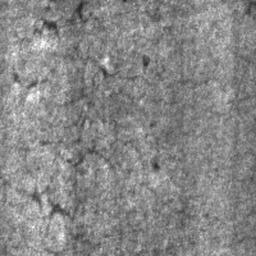Crazing: (0, 0, 256, 250), (237, 235, 256, 244), (44, 247, 63, 256)
